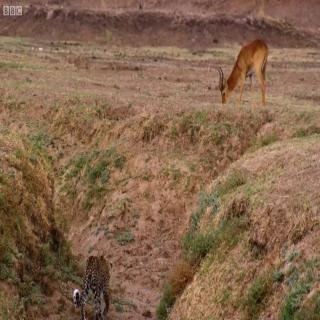Leopard: (68, 231, 128, 318)
